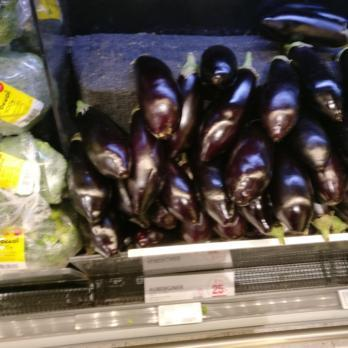Brinjal: (133, 47, 256, 236), (256, 4, 348, 235), (66, 99, 135, 253)
